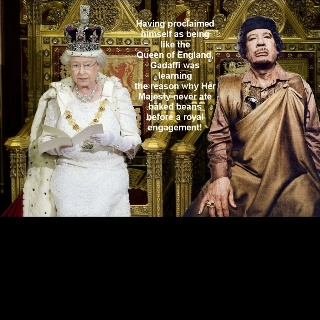without_mask: (242, 26, 282, 68), (68, 53, 99, 88)
